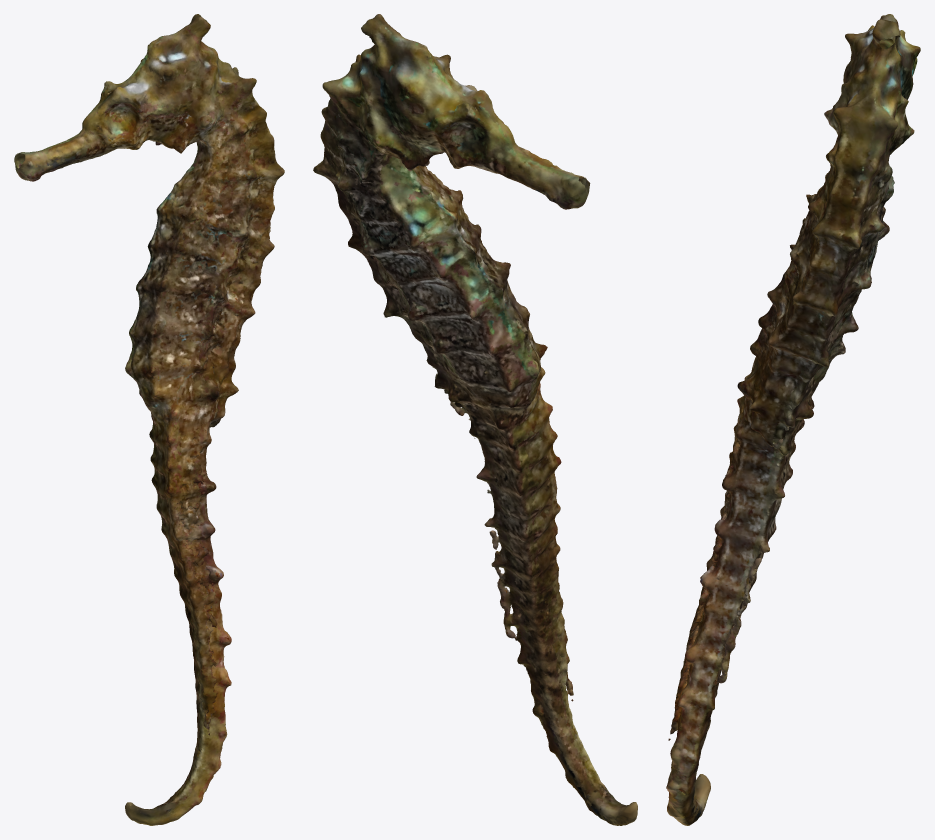
File: sea_horse.glb
3 views of the same model, side by side, from view 1: azimuth 30°, elevation 25°; view 2: azimuth 150°, elevation 25°; view 3: azimuth 270°, elevation 25° (orthographic). The views are drawn at different scales.
Visible parts, largest first — view 1: Geode; view 2: Geode; view 3: Geode.
Part boxes in pixels (bbox=[...]): Geode: bbox=[14, 14, 284, 825]; Geode: bbox=[313, 14, 637, 825]; Geode: bbox=[666, 14, 920, 825].
Bounding box in the file's own units: 32.15 × 89.7 × 23.74.
1 material, 1 textured.
